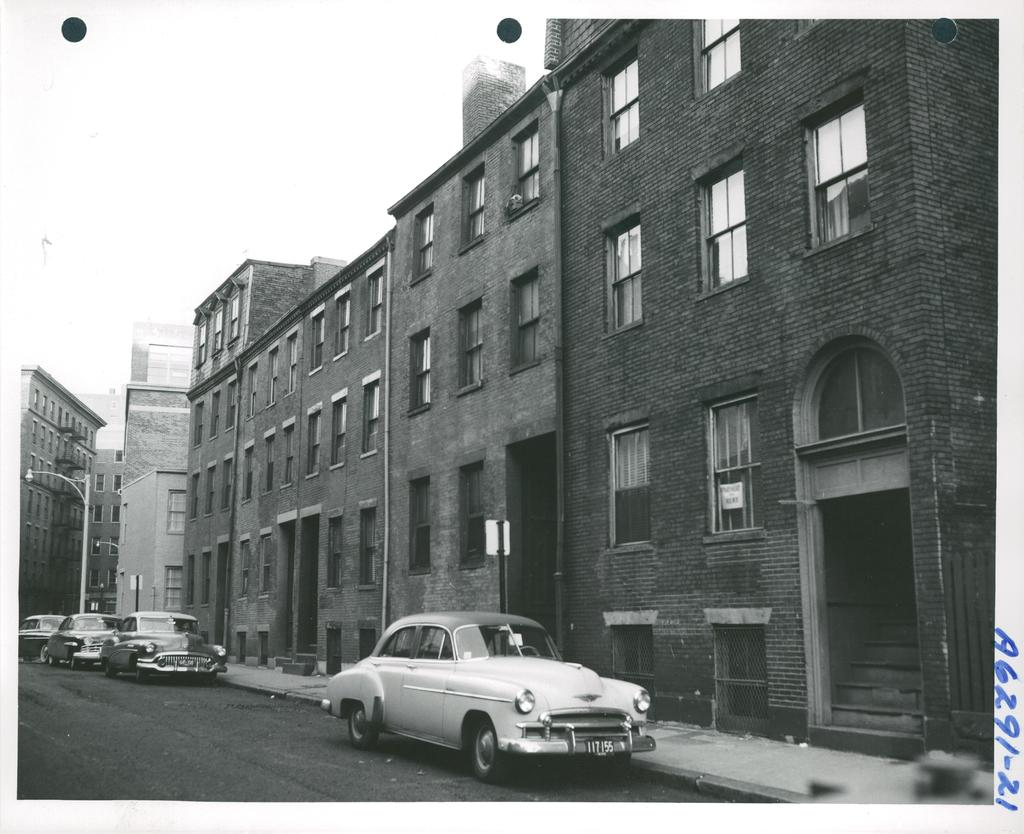cars: (326, 617, 647, 784), (99, 609, 228, 681), (46, 613, 117, 667), (11, 614, 65, 663)
